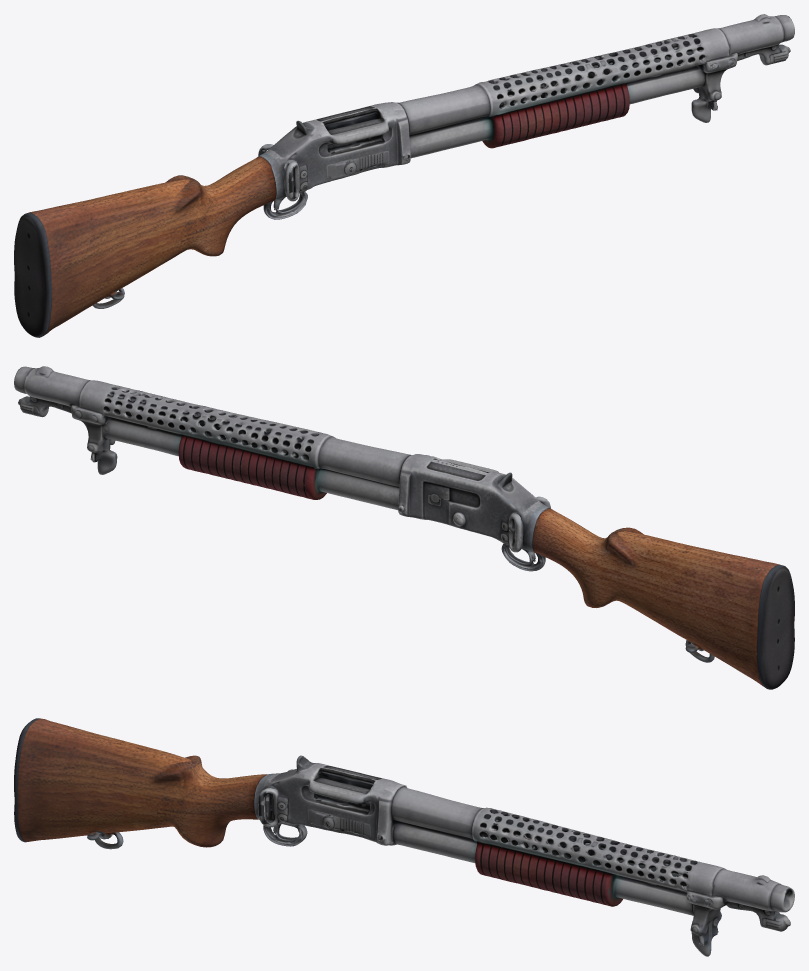
File: trench_shotgun_tripo_original.glb
3 renders of one model, top to bottom at view 1: azimuth 30°, elevation 25°; view 2: azimuth 150°, elevation 25°; view 3: azimuth 330°, elevation 25°, orthographic.
Visible parts, largest first — view 1: tripo_node_6647d7e9-3021-4525-9525-3f4159e7fa84; view 2: tripo_node_6647d7e9-3021-4525-9525-3f4159e7fa84; view 3: tripo_node_6647d7e9-3021-4525-9525-3f4159e7fa84.
Part boxes in pixels (x1,y1,x2,y2): tripo_node_6647d7e9-3021-4525-9525-3f4159e7fa84: (14, 14, 794, 337); tripo_node_6647d7e9-3021-4525-9525-3f4159e7fa84: (14, 366, 794, 689); tripo_node_6647d7e9-3021-4525-9525-3f4159e7fa84: (14, 718, 794, 956).
Bounding box in the file's own units: 0.9831 × 0.1829 × 0.0762.
1 material, 1 textured.
